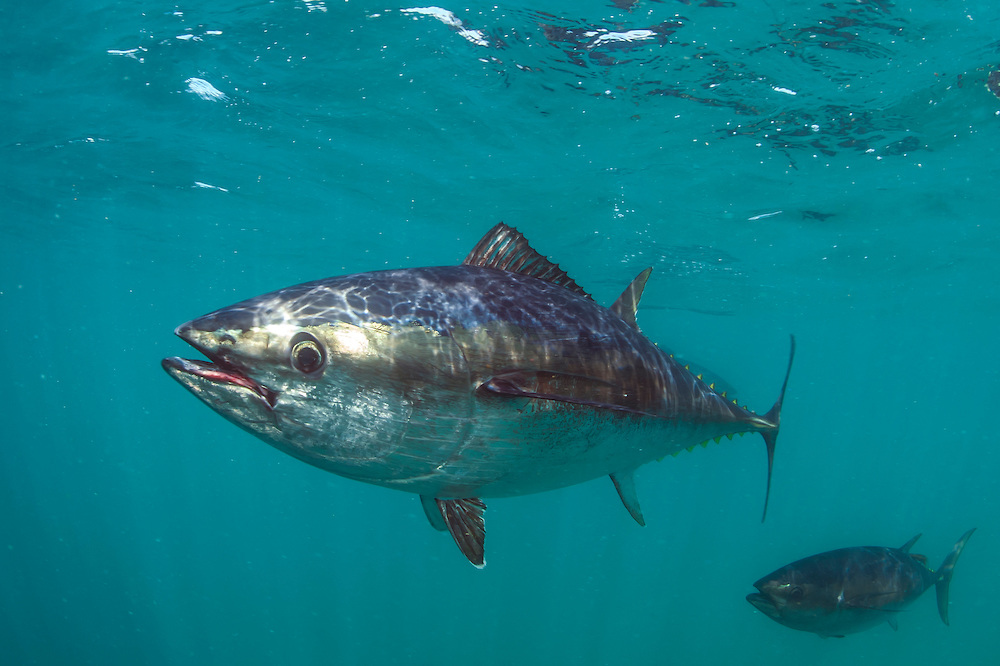Bluefina Tuna: (153, 220, 793, 540), (726, 536, 979, 633)
